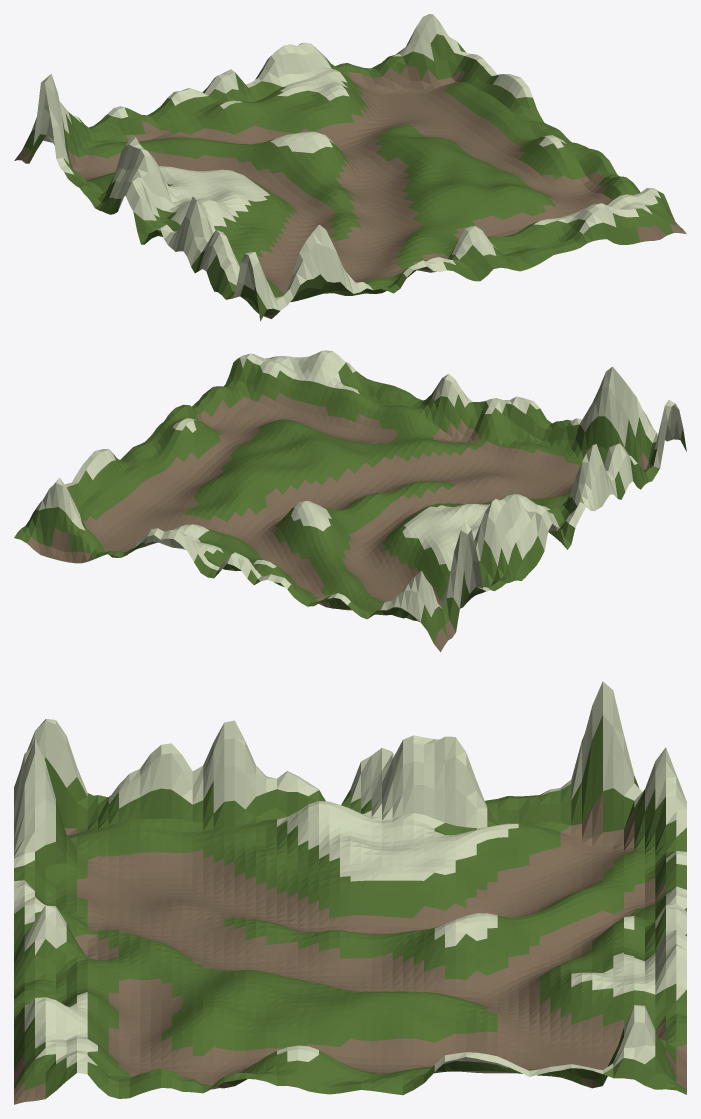
File: terrainLowPoly01.fbx
3 views of the same model, one above another, from view 1: azimuth 30°, elevation 25°; view 2: azimuth 150°, elevation 25°; view 3: azimuth 270°, elevation 25° (orthographic). The views are drawn at different scales.
Visible parts, largest first — view 1: Terrain2; view 2: Terrain2; view 3: Terrain2.
Part boxes in pixels (x1=…): Terrain2: x1=14, y1=14, x2=686, y2=321; Terrain2: x1=14, y1=350, x2=686, y2=652; Terrain2: x1=14, y1=681, x2=686, y2=1104.
Bounding box in the file's own units: 100000 × 24615 × 100000.
